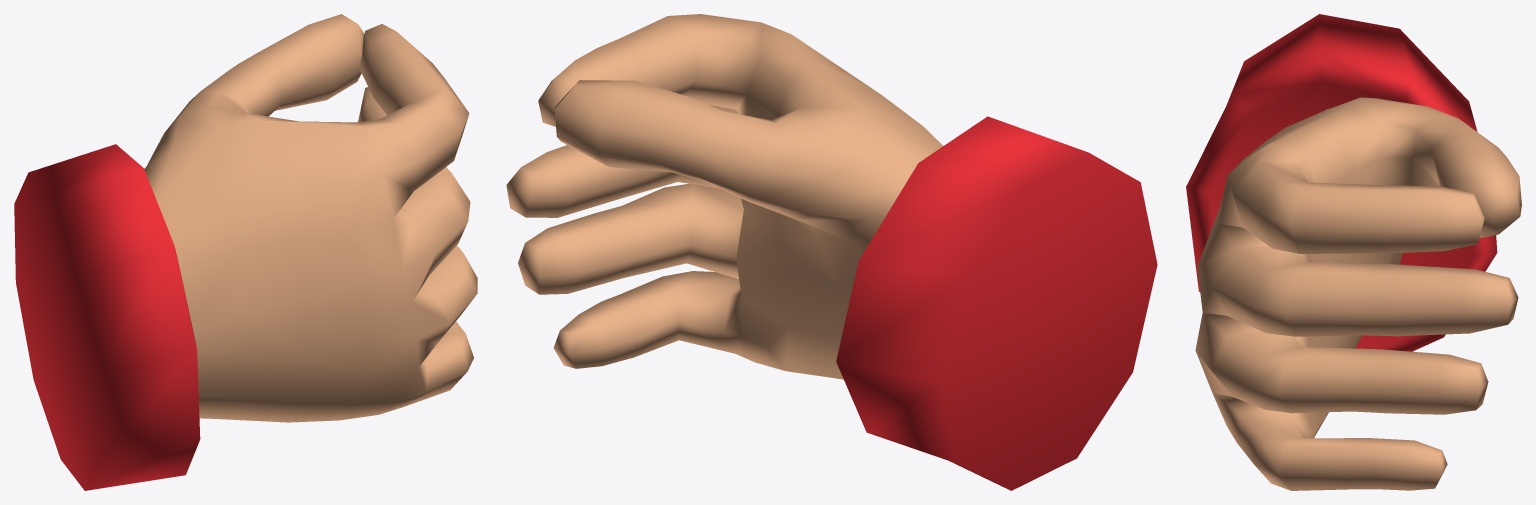
Rendered from Hand Gun Position.fbx.
3 views of the same model, side by side, from view 1: azimuth 30°, elevation 25°; view 2: azimuth 150°, elevation 25°; view 3: azimuth 270°, elevation 25° (orthographic). The views are drawn at different scales.
Visible parts, largest first — view 1: Hand Mesh; view 2: Hand Mesh; view 3: Hand Mesh.
Part boxes in pixels (x1,y1,x2,y2): Hand Mesh: [14, 14, 477, 490]; Hand Mesh: [506, 14, 1157, 490]; Hand Mesh: [1186, 14, 1521, 490].
Size of the model in its own units: 202 by 139 by 126.
